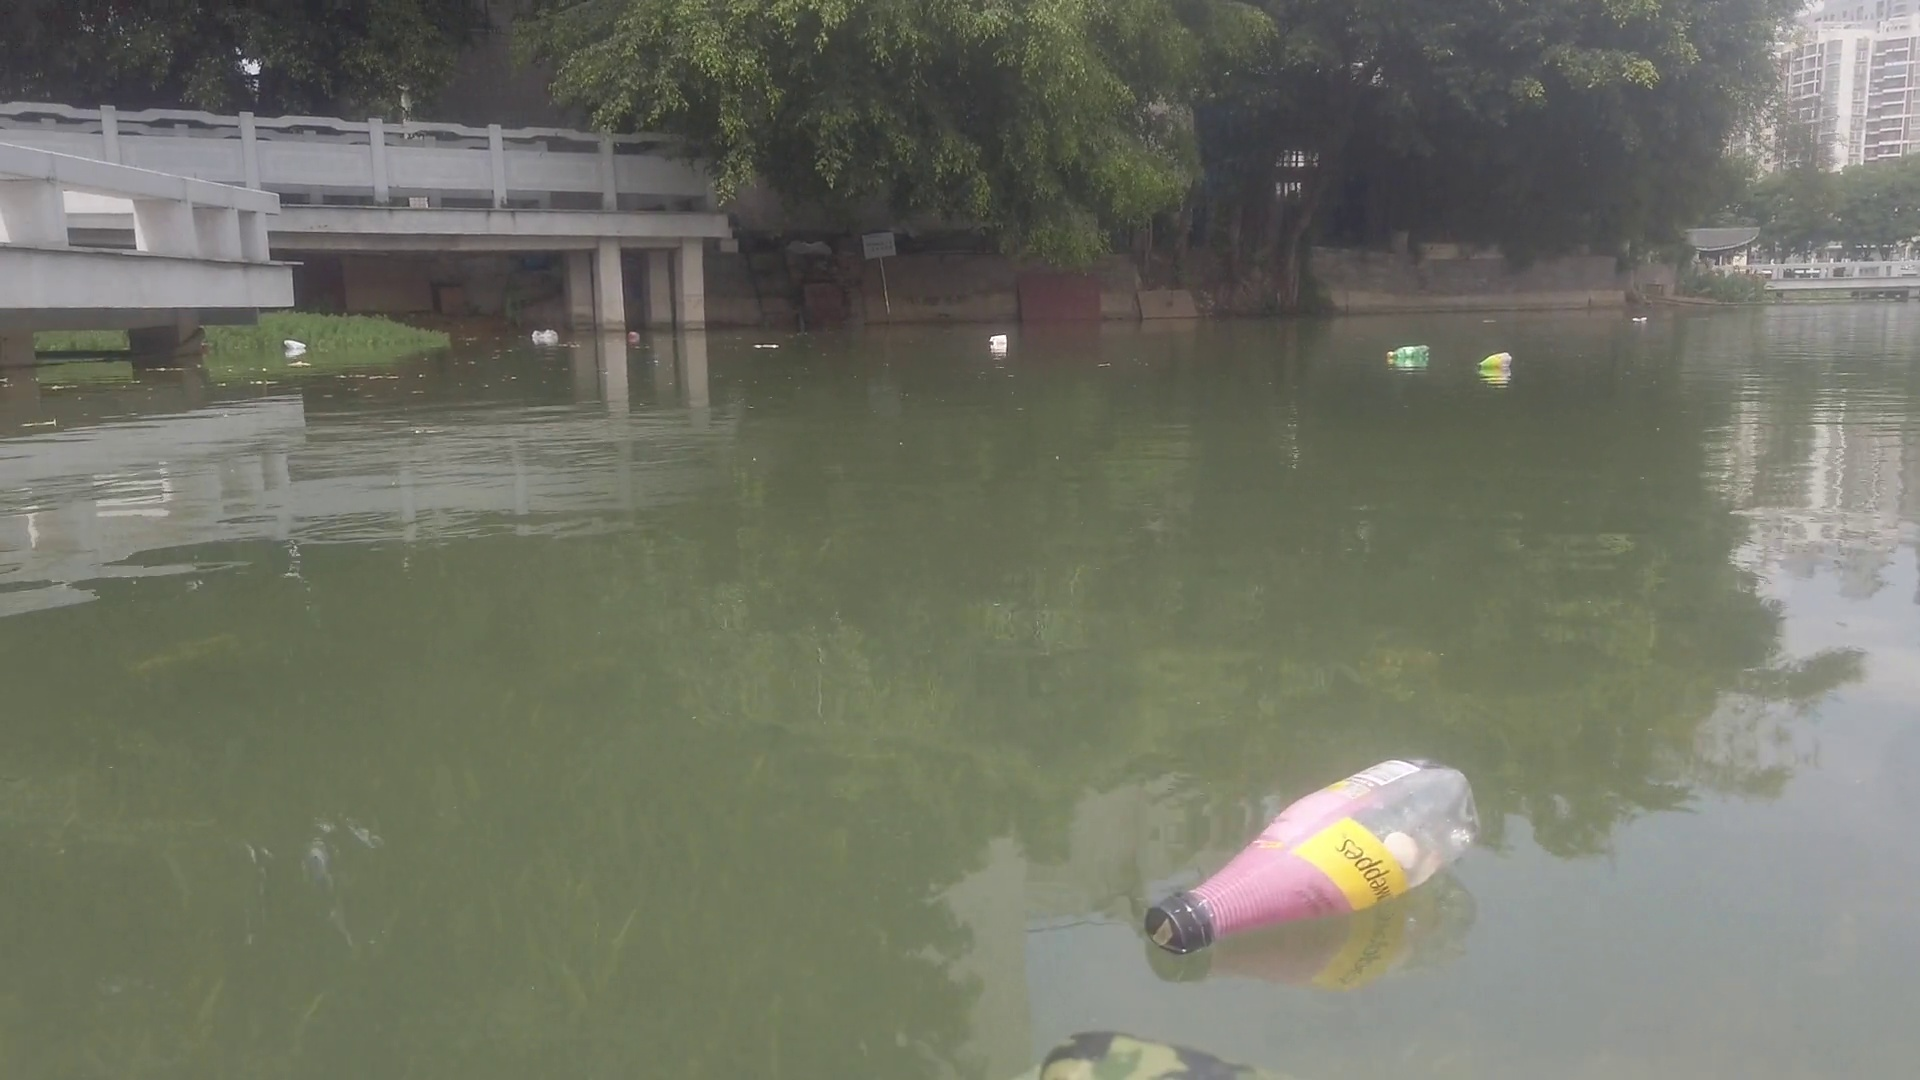bottle: (1126, 744, 1491, 957), (1474, 344, 1520, 375), (1386, 342, 1429, 365), (628, 328, 640, 342)
carton: (988, 334, 1010, 348)
paper: (291, 357, 314, 371), (756, 339, 779, 351)
plastic: (531, 323, 559, 340), (285, 338, 309, 352)
